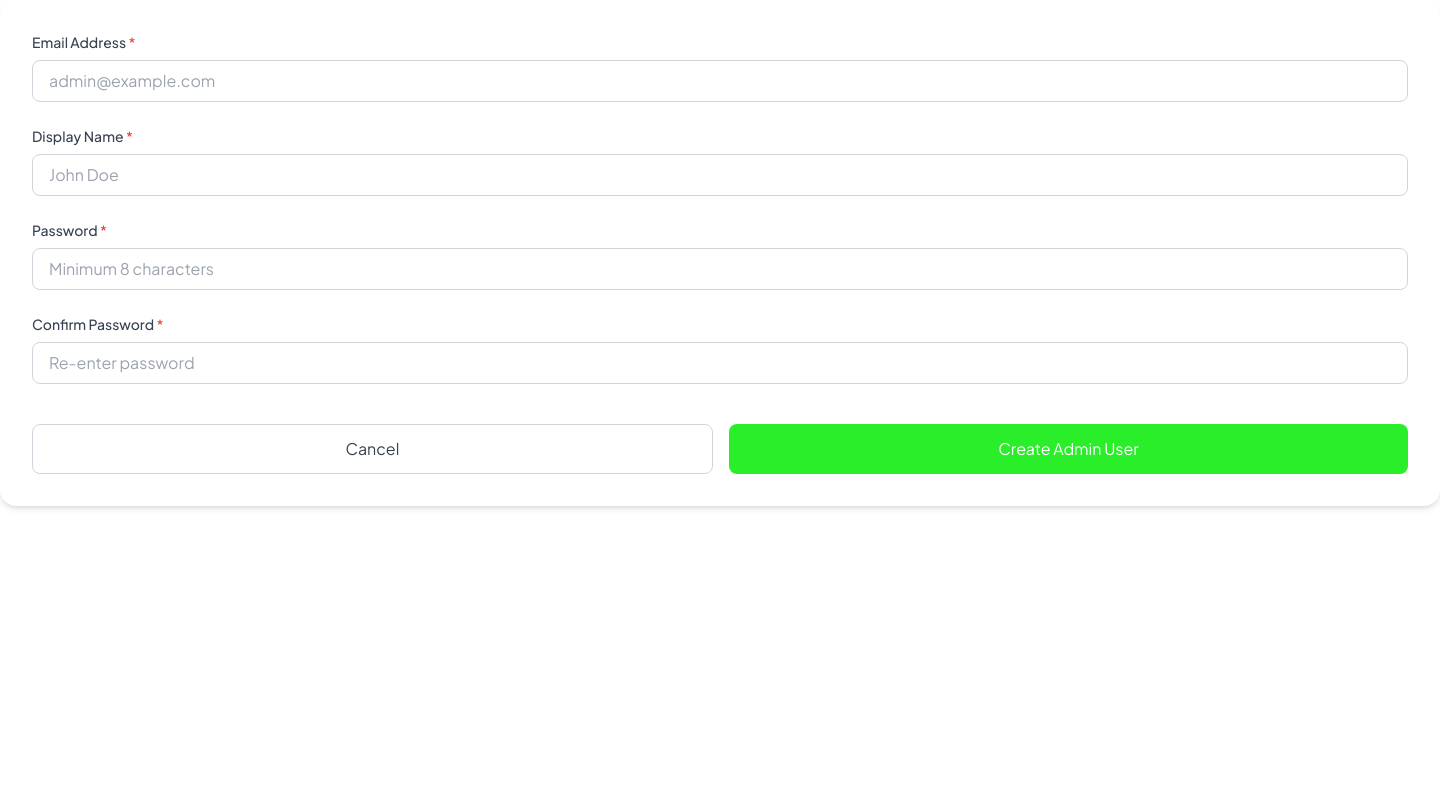
Scenario: UserForm › UserForm_Should_ValidateDisplayName_When_Submitted › should show error when display name is too short
Type "A" into the field labelled "Display Name *". click: (720, 175)
box: [32,154,1408,196]
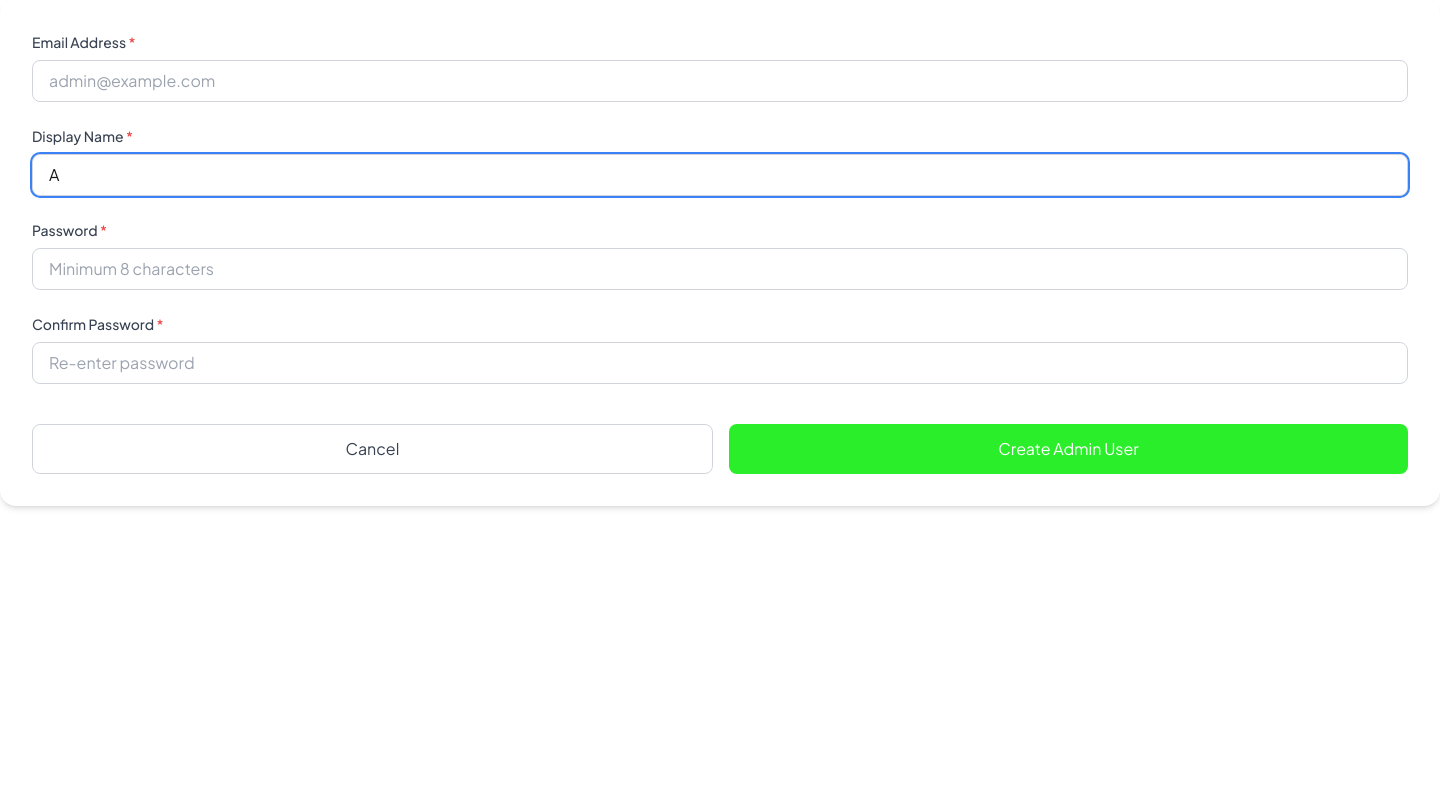
Click the button "Create Admin User". click: (1068, 449)
box: [729,424,1408,474]
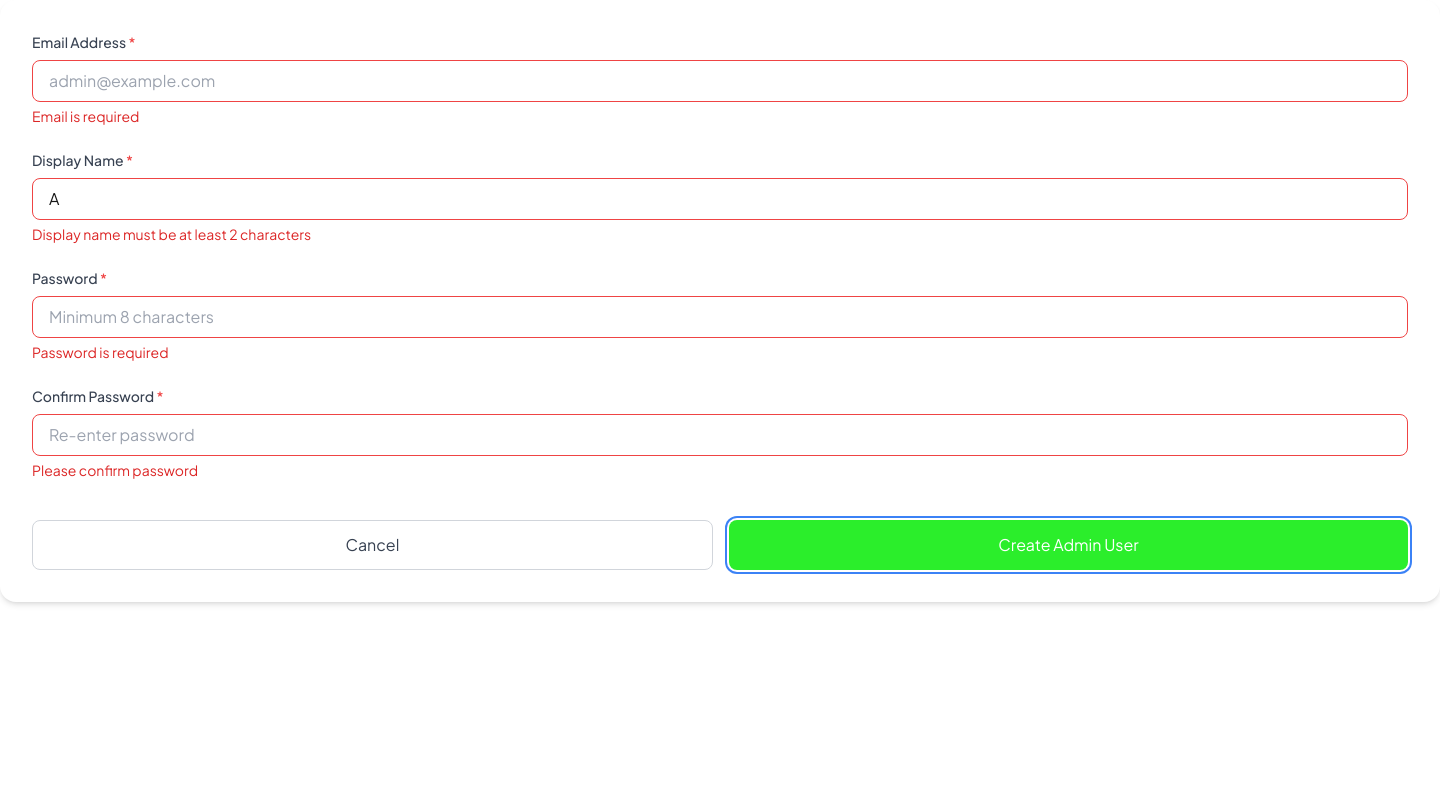
Result: the text "Display name must be at least 2 characters" is shown at [32,225,311,243]
